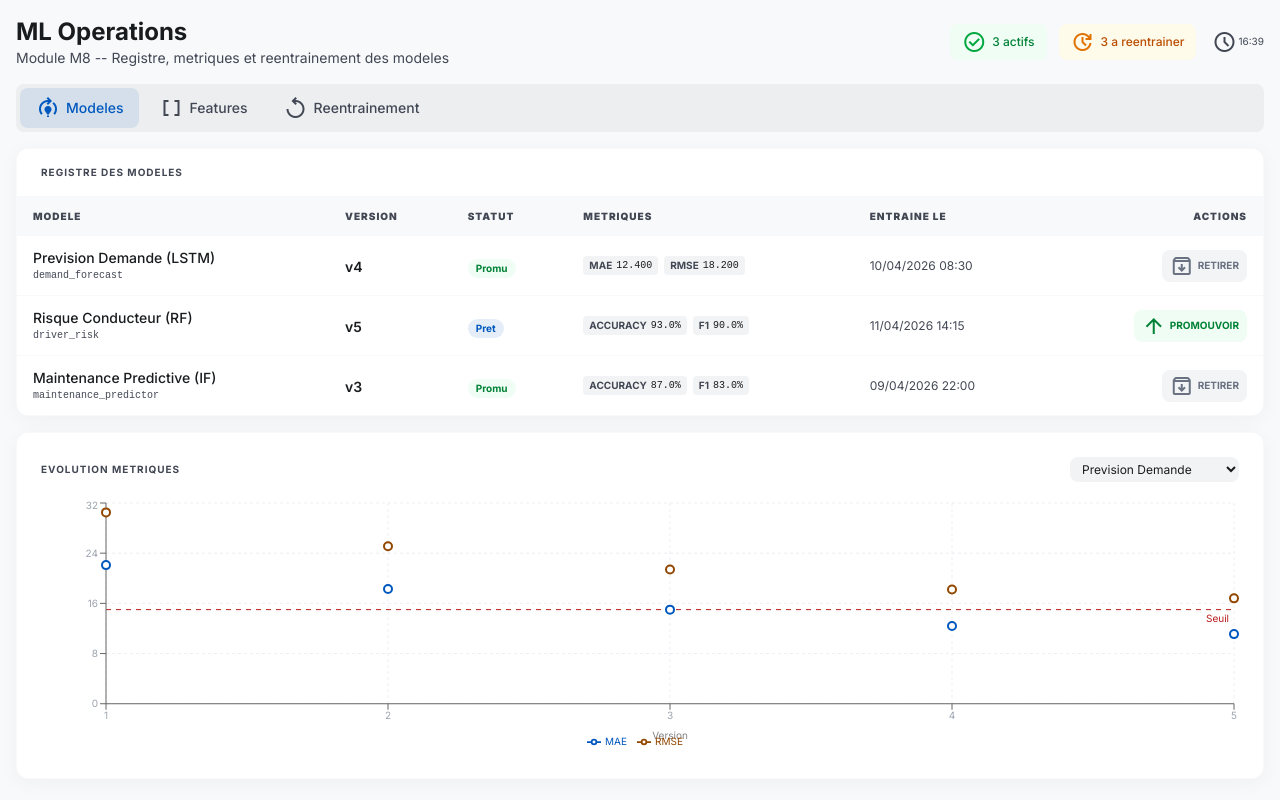
Test case: Tab switching › displays correct panel content when switching tabs
The width and height of the screenshot is (1280, 800).
# Switch to Features tab
Click the button with test id "tab-features".
click(204, 108)  # box [143,88,264,128]
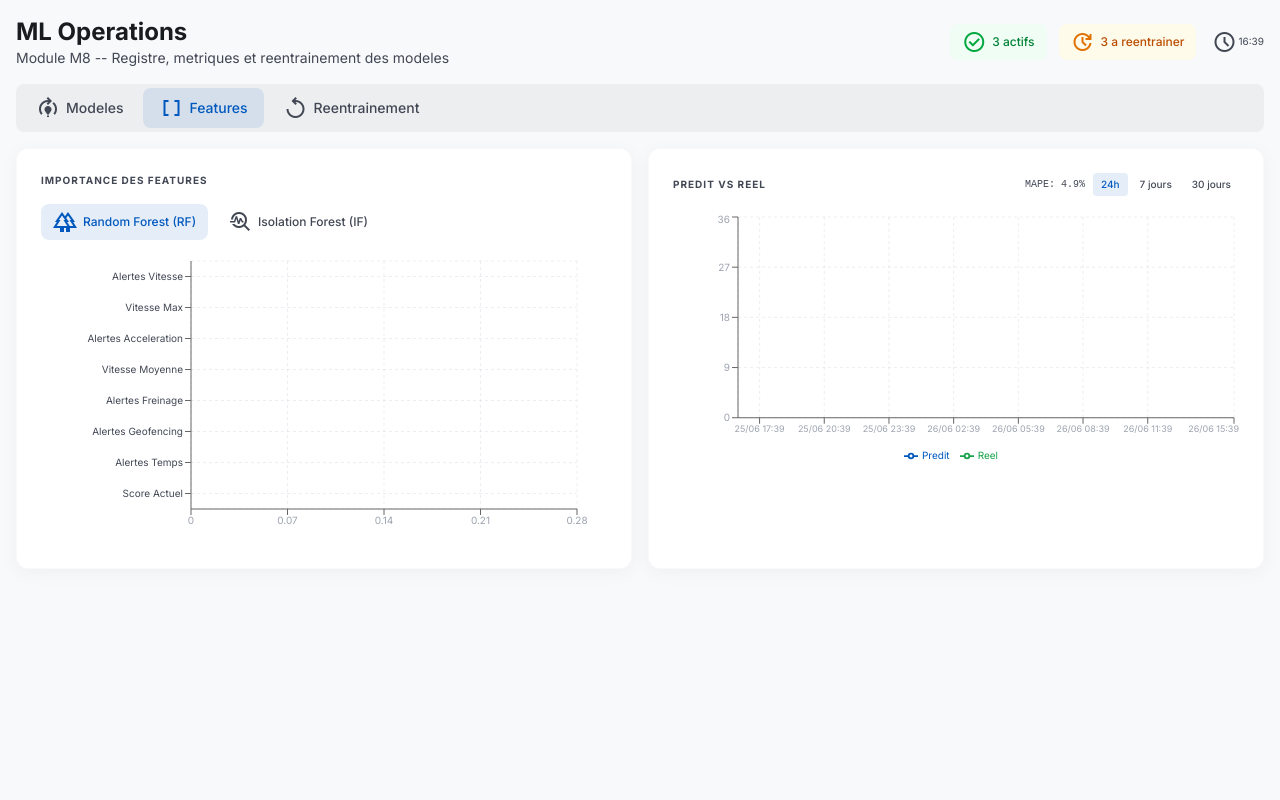
Check: the element with test id "tab-panel-features" is shown, box [16,148,1264,569]
# Switch to Retraining tab
Click the button with test id "tab-retraining".
click(352, 108)  # box [268,88,436,128]
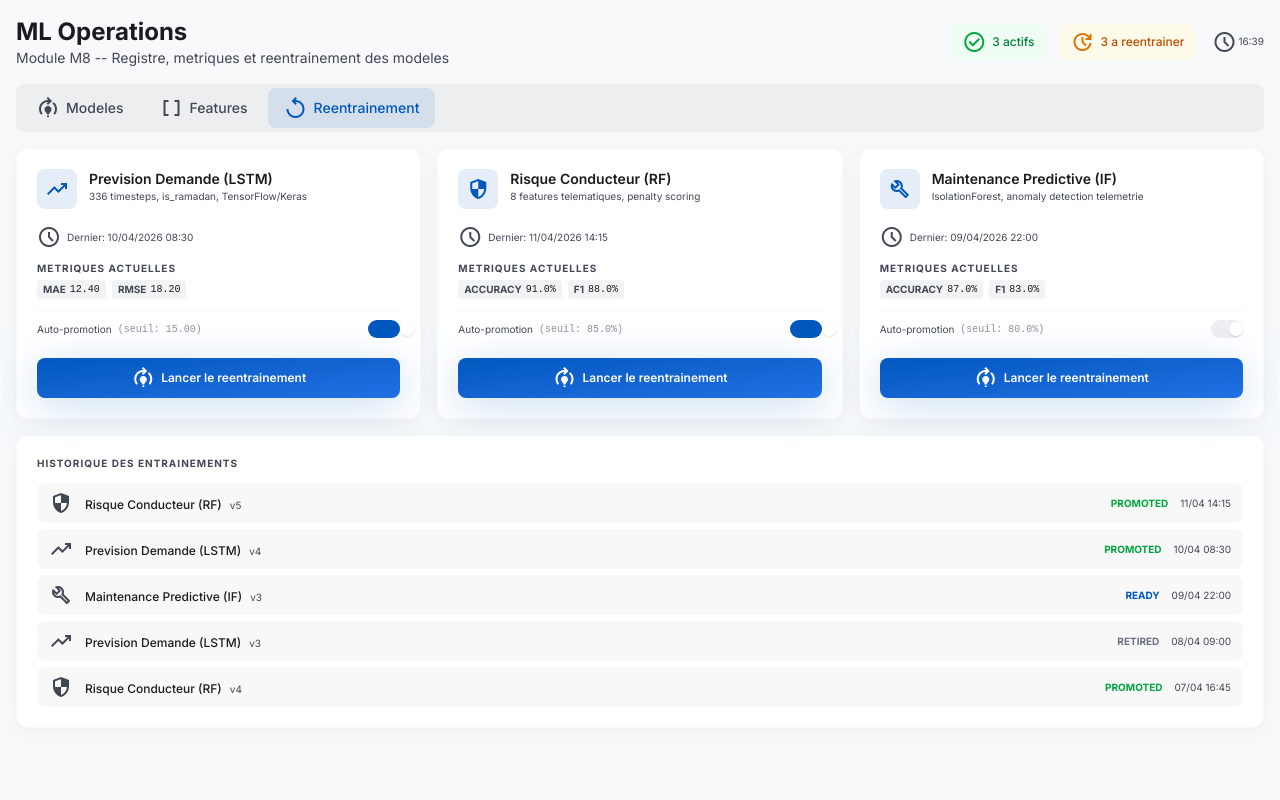
Check: the element with test id "tab-panel-retraining" is shown
